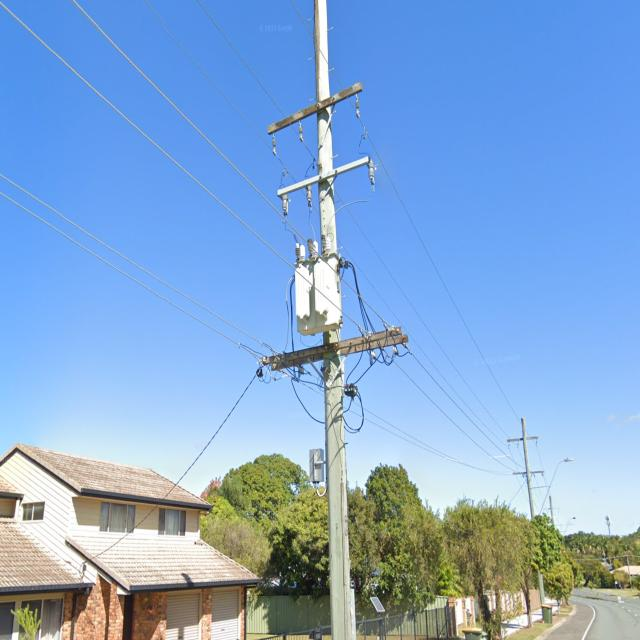HV-transmission: (266, 80, 376, 220), (506, 435, 539, 450)
LV link: (368, 348, 389, 364), (392, 344, 412, 359), (296, 364, 312, 376)
LV link box: (342, 384, 357, 398)
crossarm: (262, 325, 402, 367), (270, 333, 409, 371), (267, 80, 363, 135), (276, 154, 371, 197), (512, 470, 545, 476), (506, 436, 538, 442), (545, 508, 560, 510), (555, 524, 562, 526)
streetlight: (537, 456, 574, 517), (563, 517, 576, 537)
timber-pole: (313, 0, 357, 640), (521, 418, 545, 606), (549, 496, 555, 528)
transformer: (295, 240, 342, 336)
